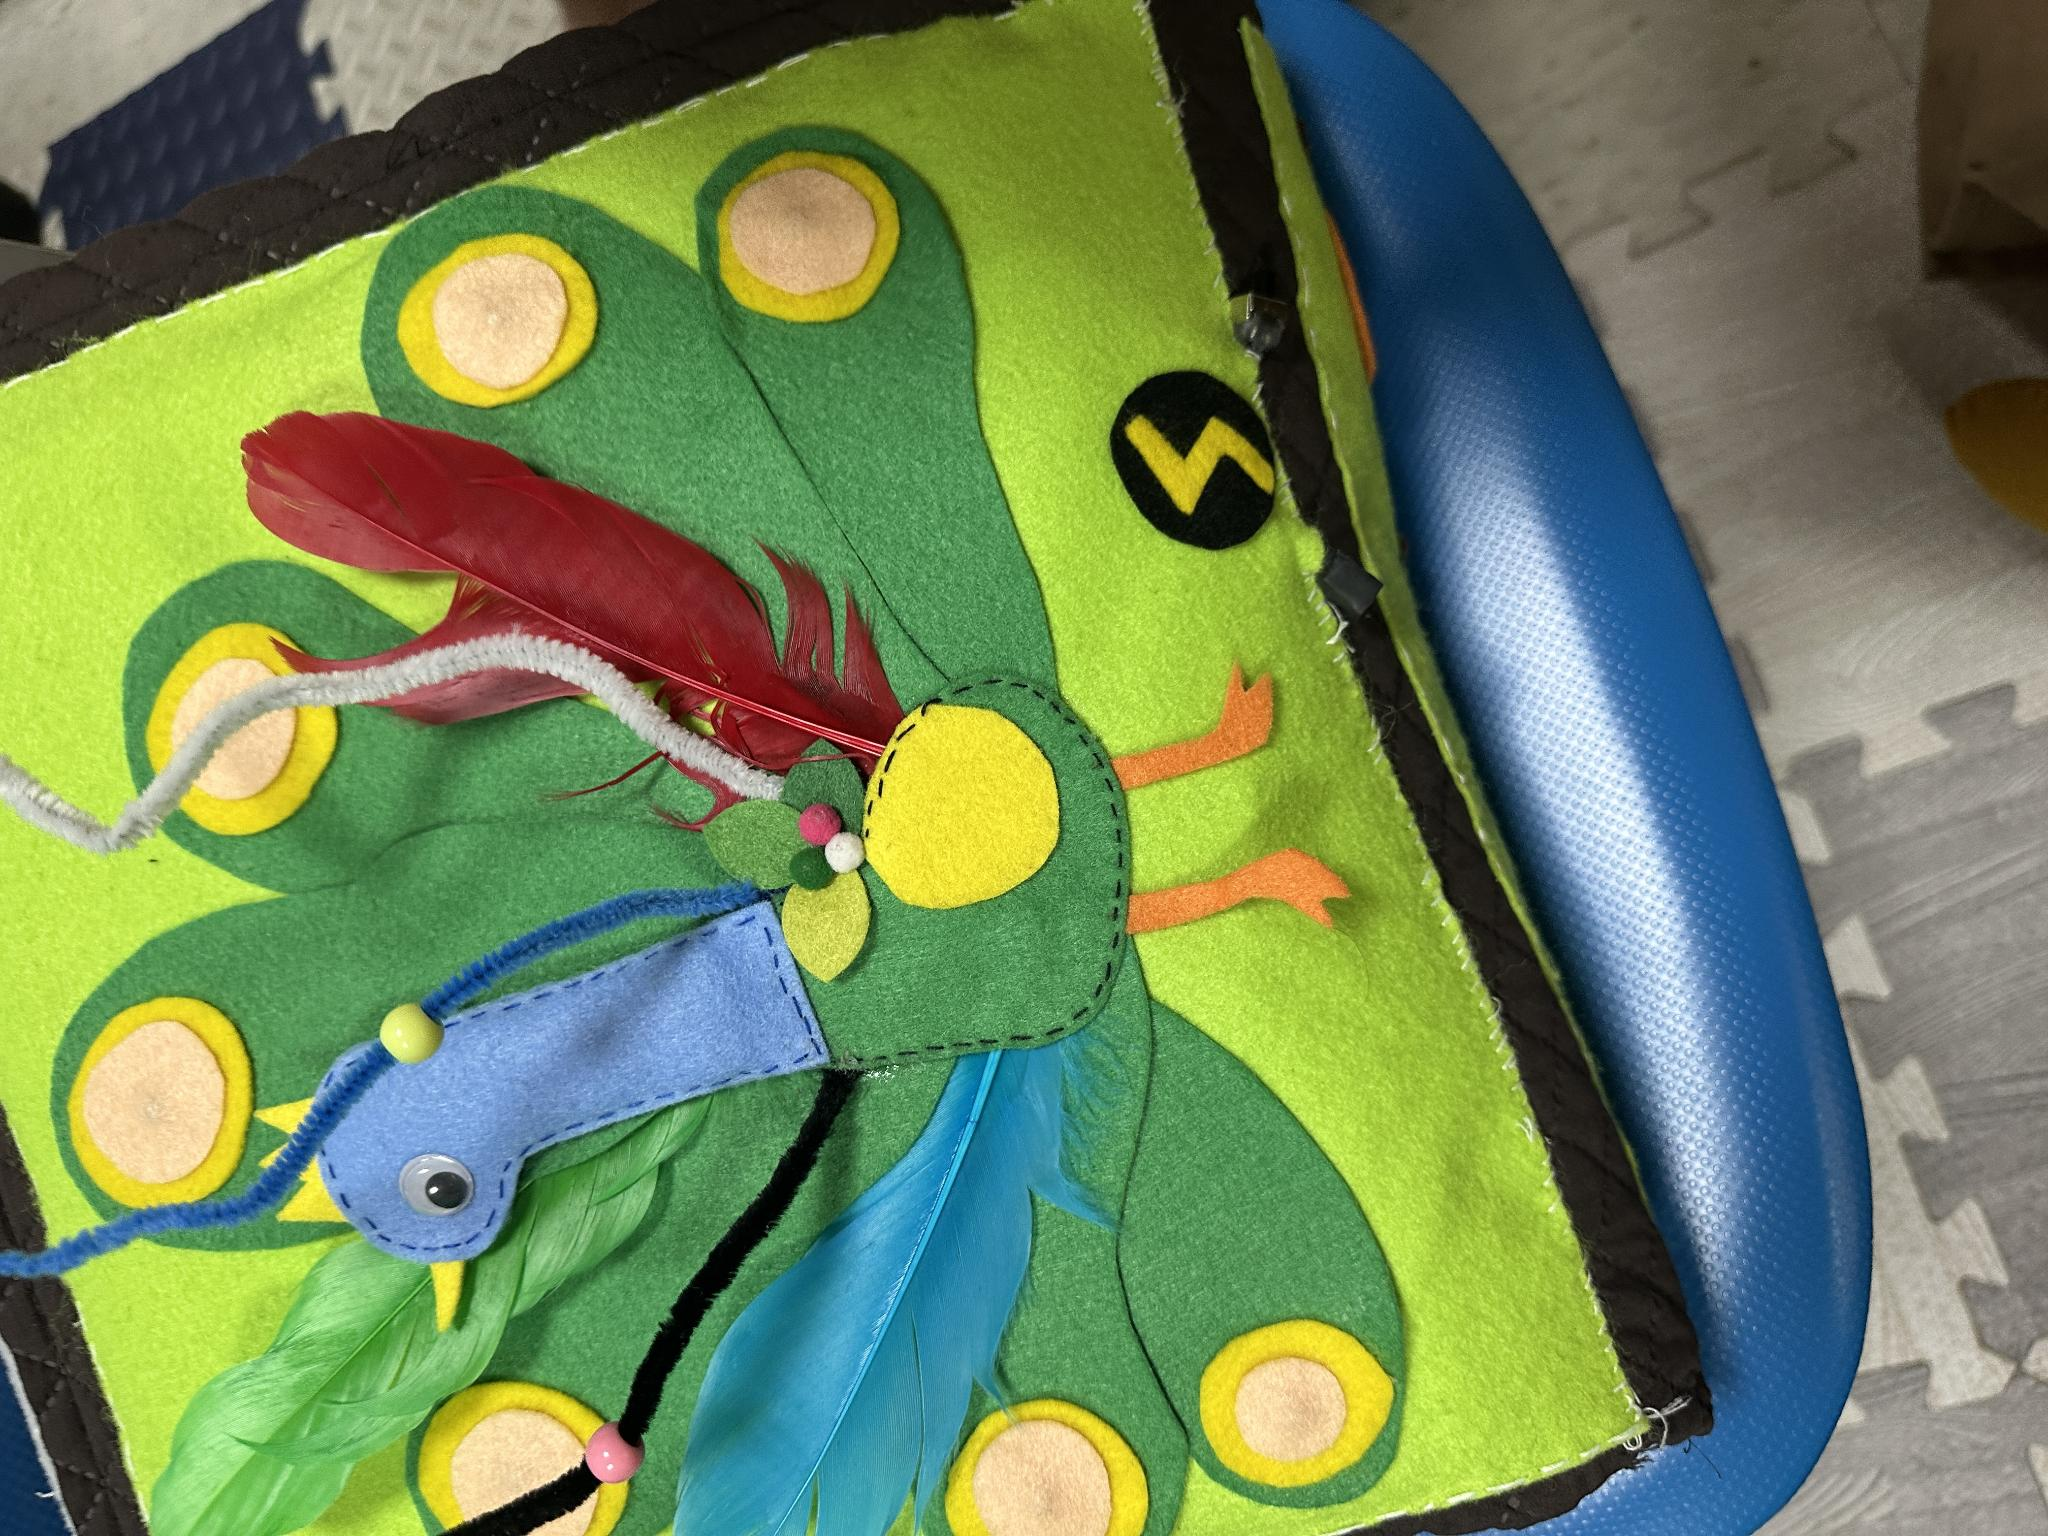bead: (371, 997, 453, 1081), (579, 1404, 647, 1497)
